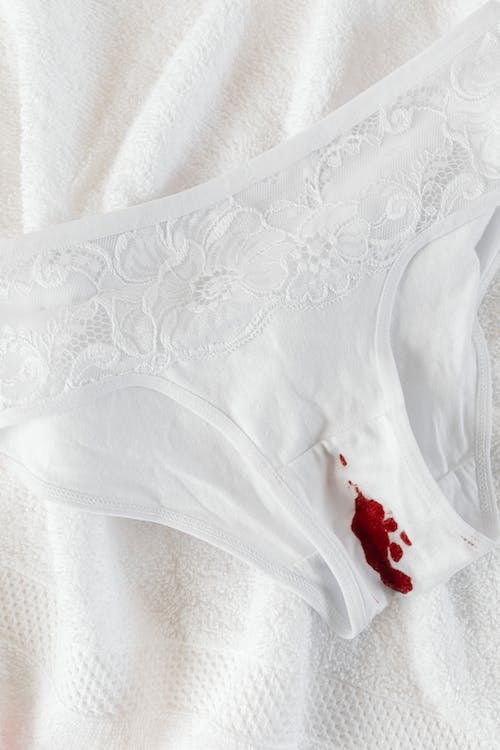blood: (333, 447, 415, 597)
